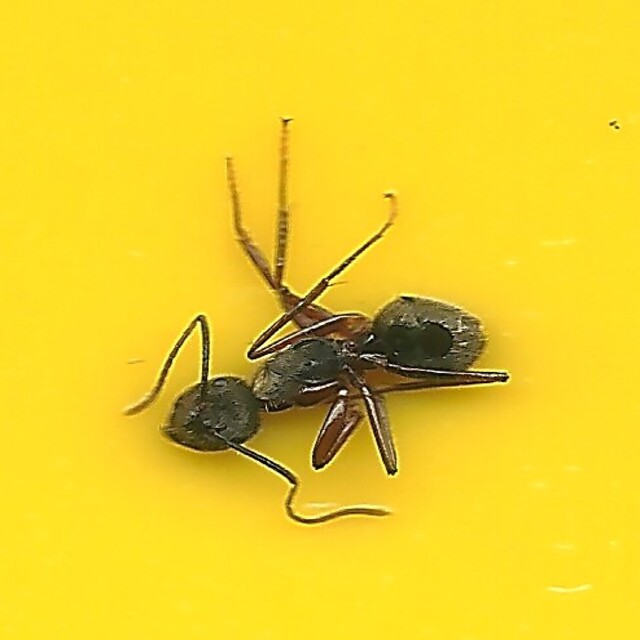Hymenoptera: (130, 114, 510, 526)
